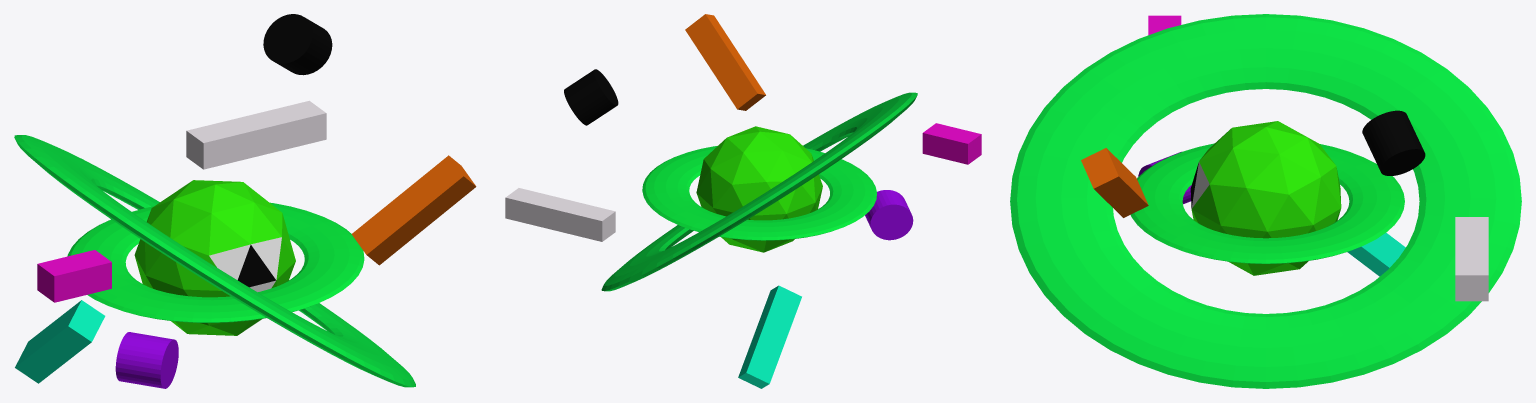
The model's file is enemy_three_final.fbx.
3 renders of one model, left to right at view 1: azimuth 30°, elevation 25°; view 2: azimuth 150°, elevation 25°; view 3: azimuth 270°, elevation 25°, orthographic. The views are drawn at different scales.
Visible parts, largest first — view 1: Icosphere.005, Icosphere.010; view 2: Icosphere.005, Icosphere.010; view 3: Icosphere.005, Icosphere.010.
Boxes of the visible parts, <box> form: Icosphere.005: <box>14,135,415,387</box>; Icosphere.010: <box>15,14,476,388</box>; Icosphere.005: <box>601,92,917,291</box>; Icosphere.010: <box>505,14,981,388</box>; Icosphere.005: <box>1010,14,1521,388</box>; Icosphere.010: <box>1081,15,1488,301</box>.
Bounding box in the file's own units: 613 × 447 × 650.
